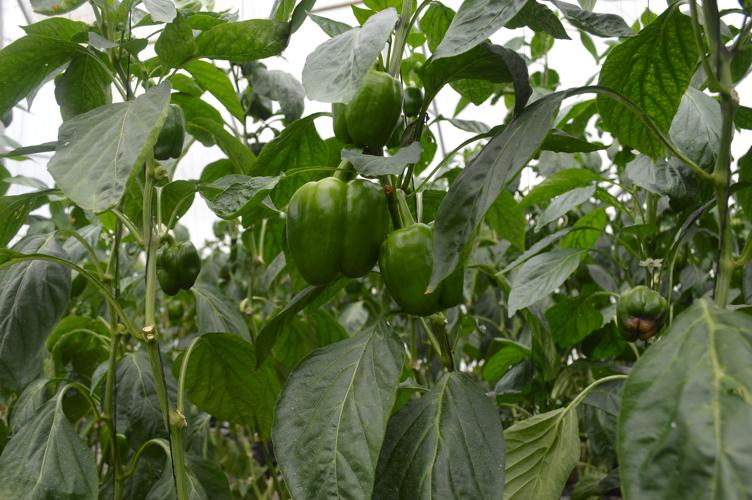BellPepper: (278, 167, 393, 289), (380, 217, 466, 322), (319, 60, 403, 160), (610, 264, 665, 347), (149, 230, 205, 305), (143, 98, 192, 162)
